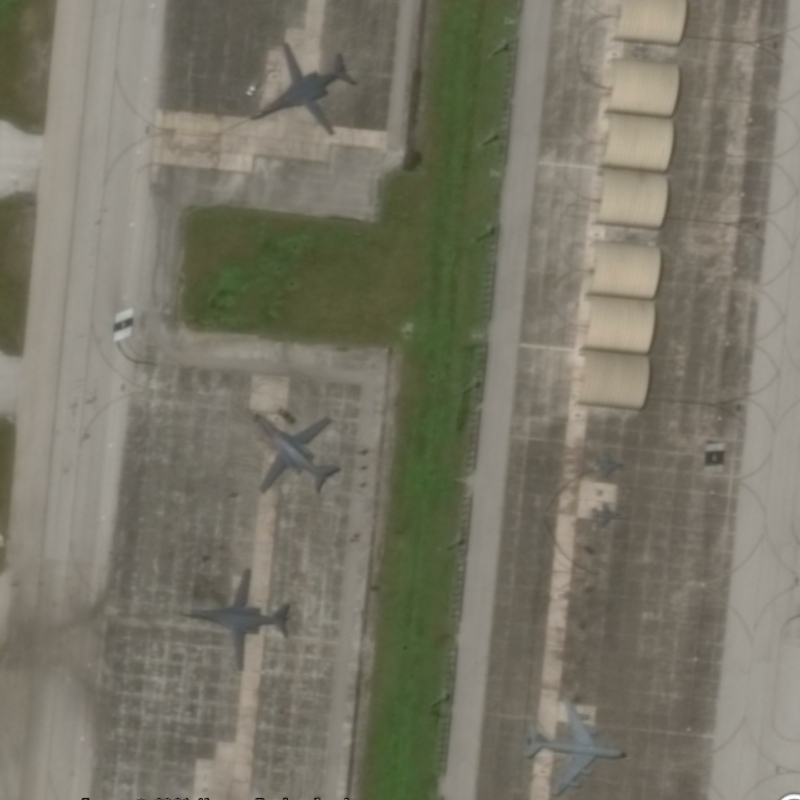A10: (174, 561, 299, 674), (242, 36, 361, 143), (244, 398, 351, 499)
A14: (520, 692, 631, 798)
